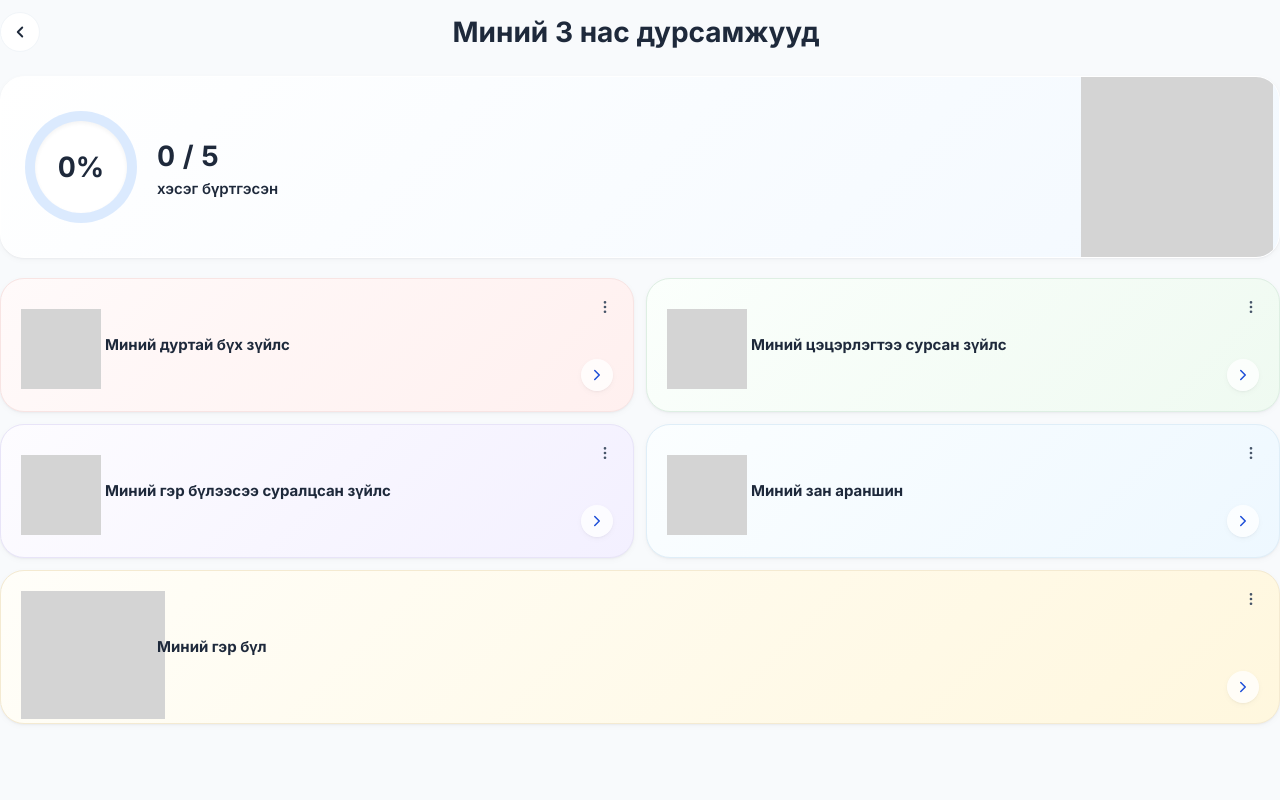
growth age navigation and editing › keeps an unsaved draft visible when saving fails
This screenshot has width=1280, height=800.
Click the button named "Миний зан араншин үйлдэл".
click(1251, 453)  # box x1=1231 y1=433 x2=1271 y2=473
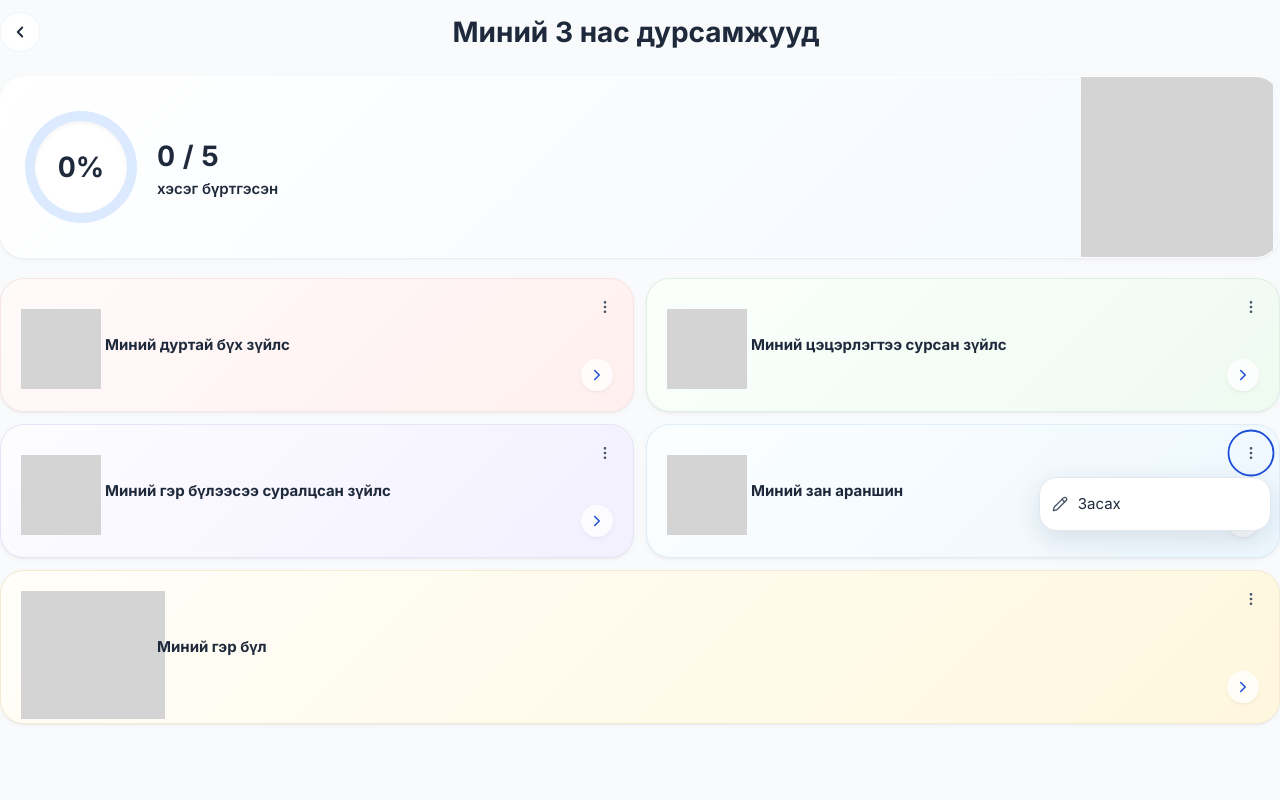
Click the menu item "Засах".
click(1155, 504)  # box x1=1040 y1=482 x2=1270 y2=526
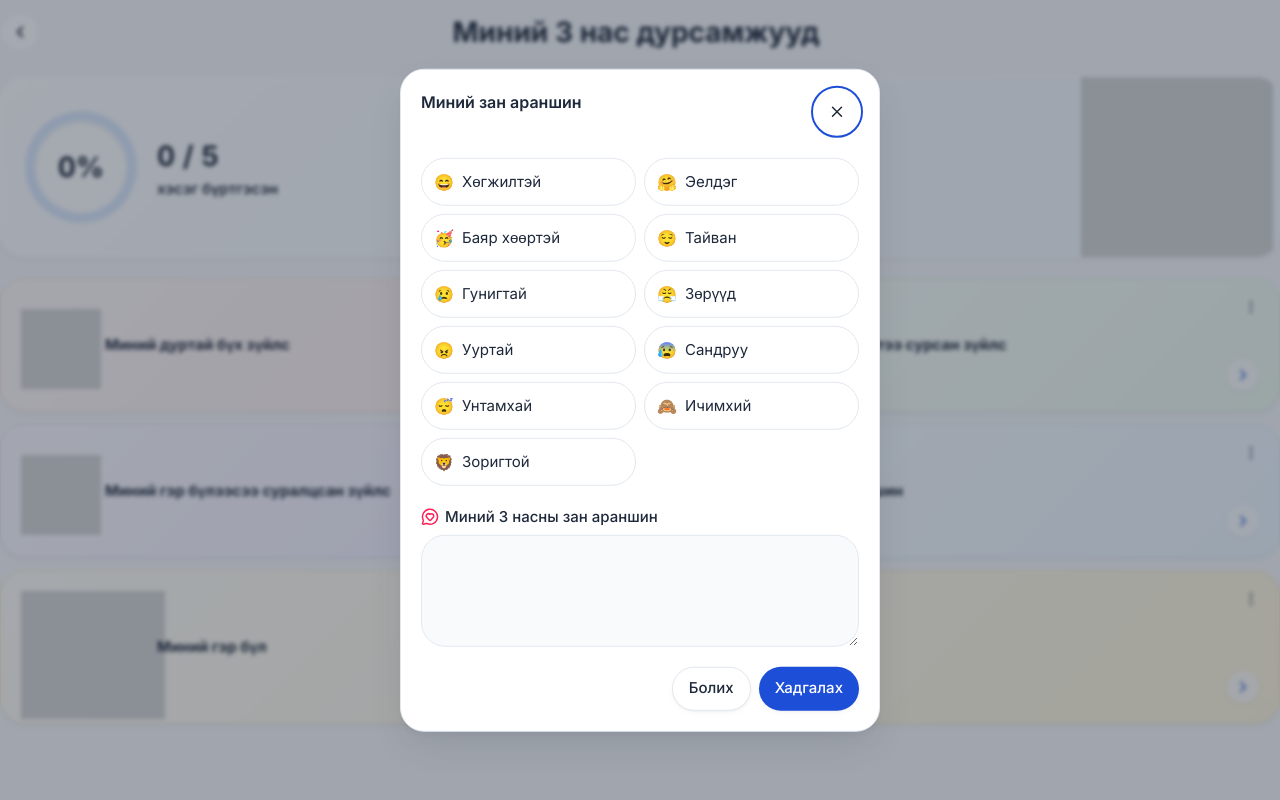
Type "Шинэ орчинд хурдан дасдаг." into the text box labelled "Миний 3 насны зан араншин".
click(640, 590); type("Шинэ орчинд хурдан дасдаг.")  # box x1=421 y1=534 x2=859 y2=646
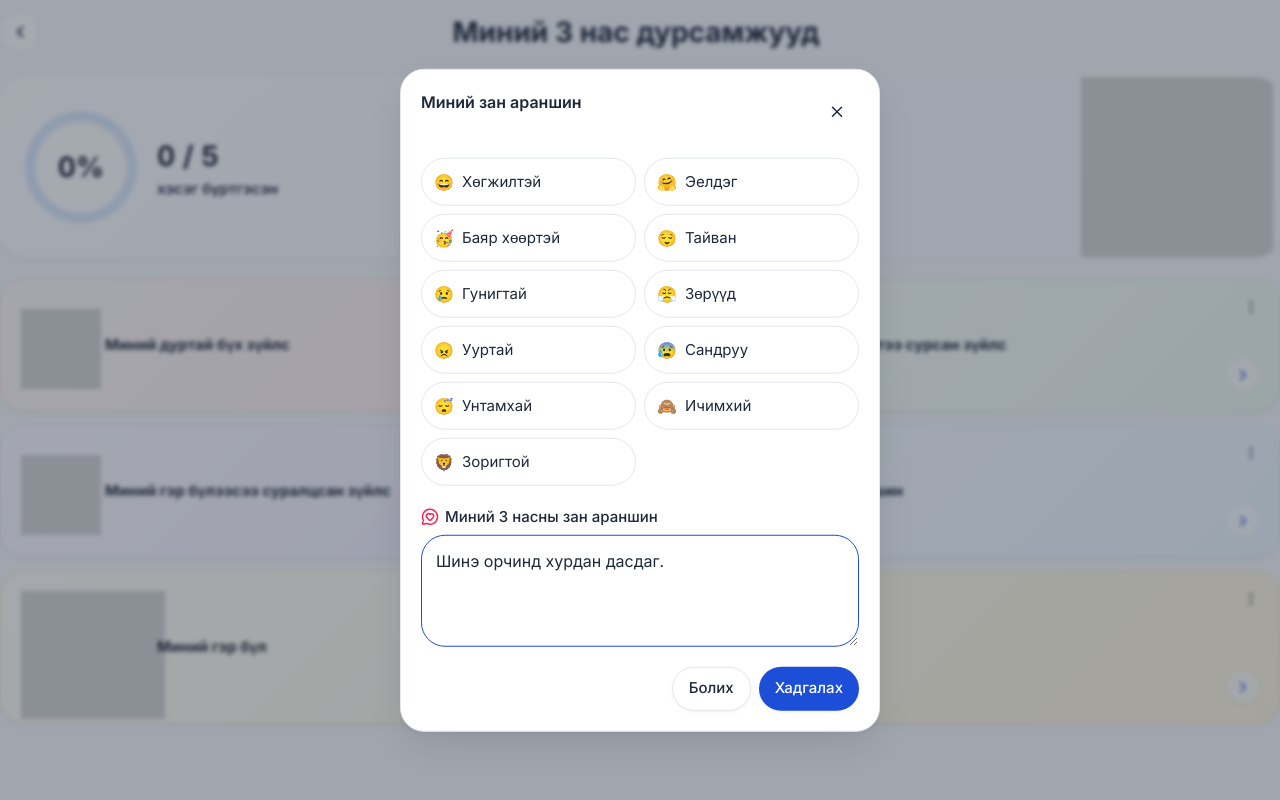
Click the button "Хадгалах".
click(809, 688)  # box x1=759 y1=666 x2=859 y2=710
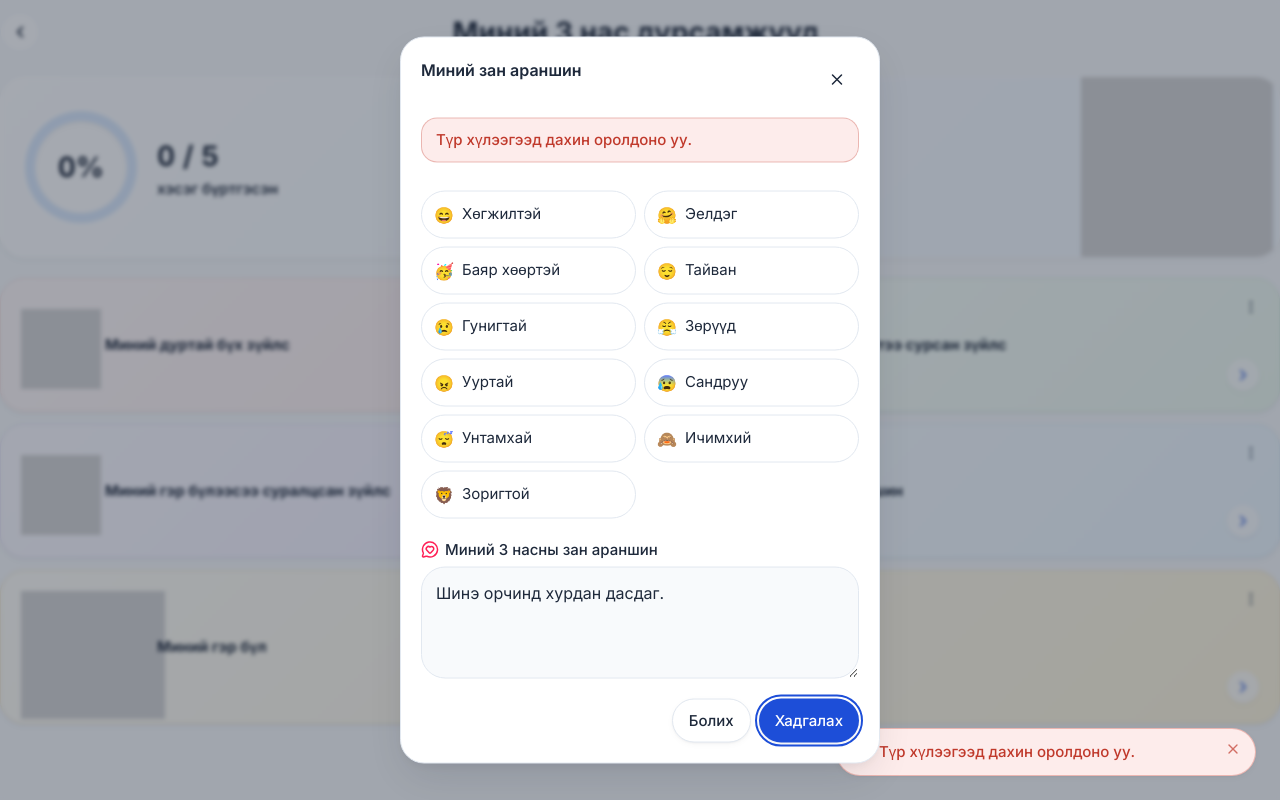
expect the dialog "Миний зан араншин" is shown: met, box x1=400 y1=36 x2=880 y2=764
expect the text "Түр хүлээгээд дахин оролдоно уу." is shown 2 times: met, box x1=879 y1=742 x2=1135 y2=760; x1=421 y1=118 x2=859 y2=162
